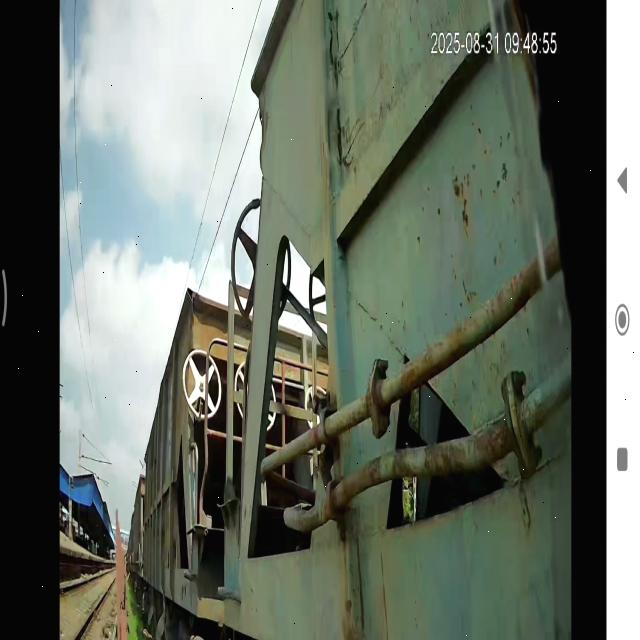joint: (150, 0, 374, 638)
